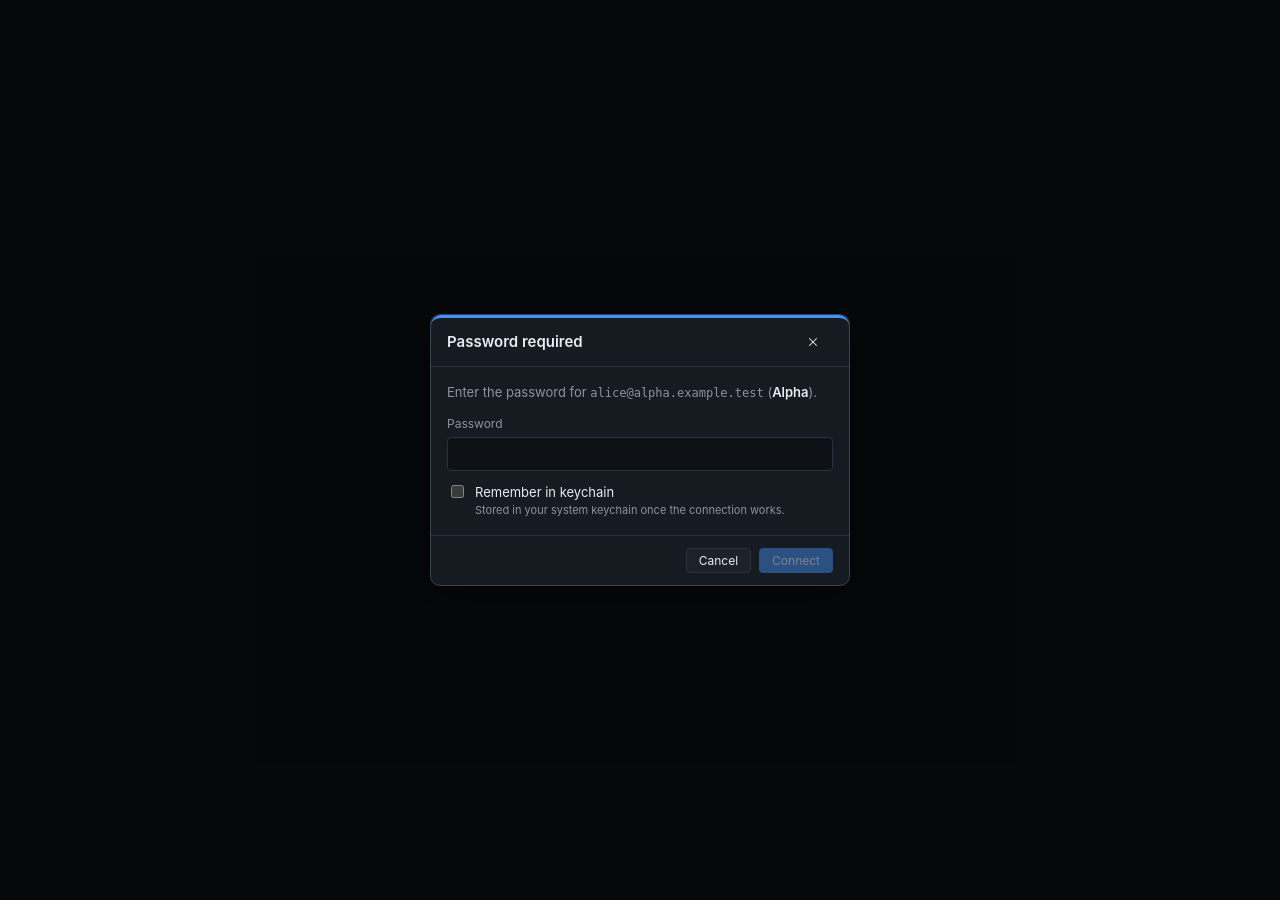
it: SecretPrompt › stays open with the error when the password is wrong
Type "wrong" into the password field labelled "Password".
click(640, 454); type("wrong")  # box [447, 437, 833, 471]
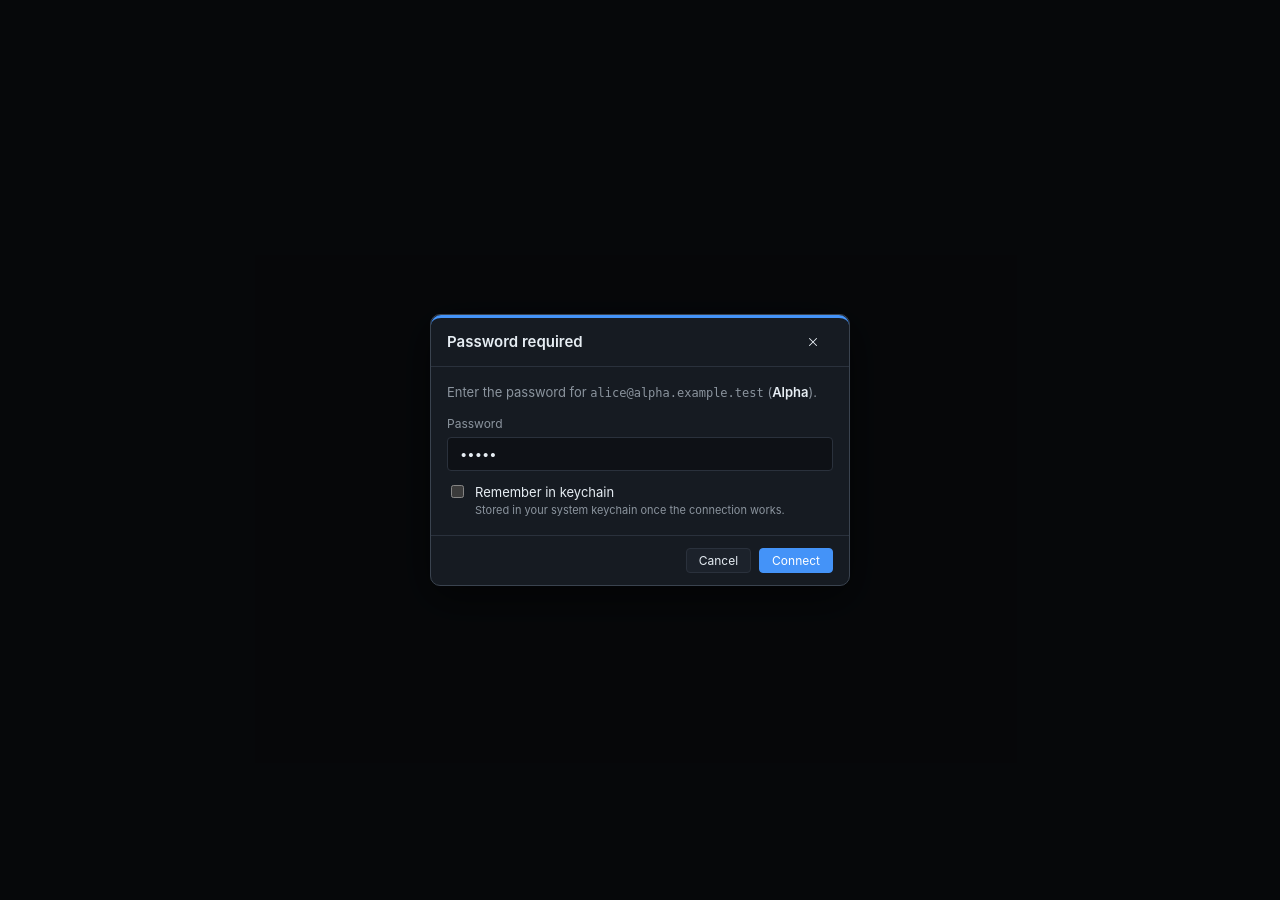
Submit the form labelled "password", box [447, 383, 833, 519]
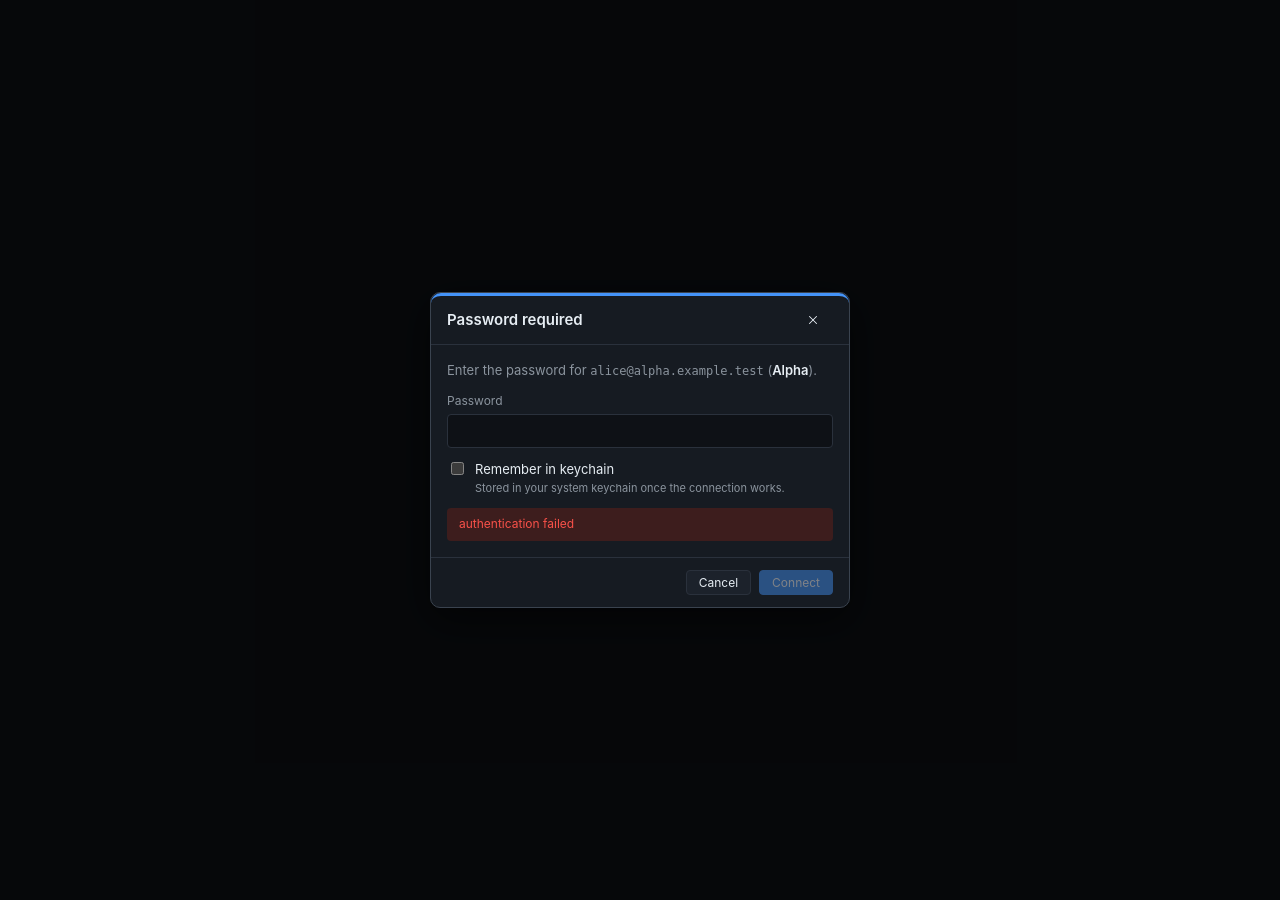
Expected: the message reads "authentication failed", [459, 516, 574, 531]
Expected: the password field labelled "Password" is empty, [447, 414, 833, 448]
